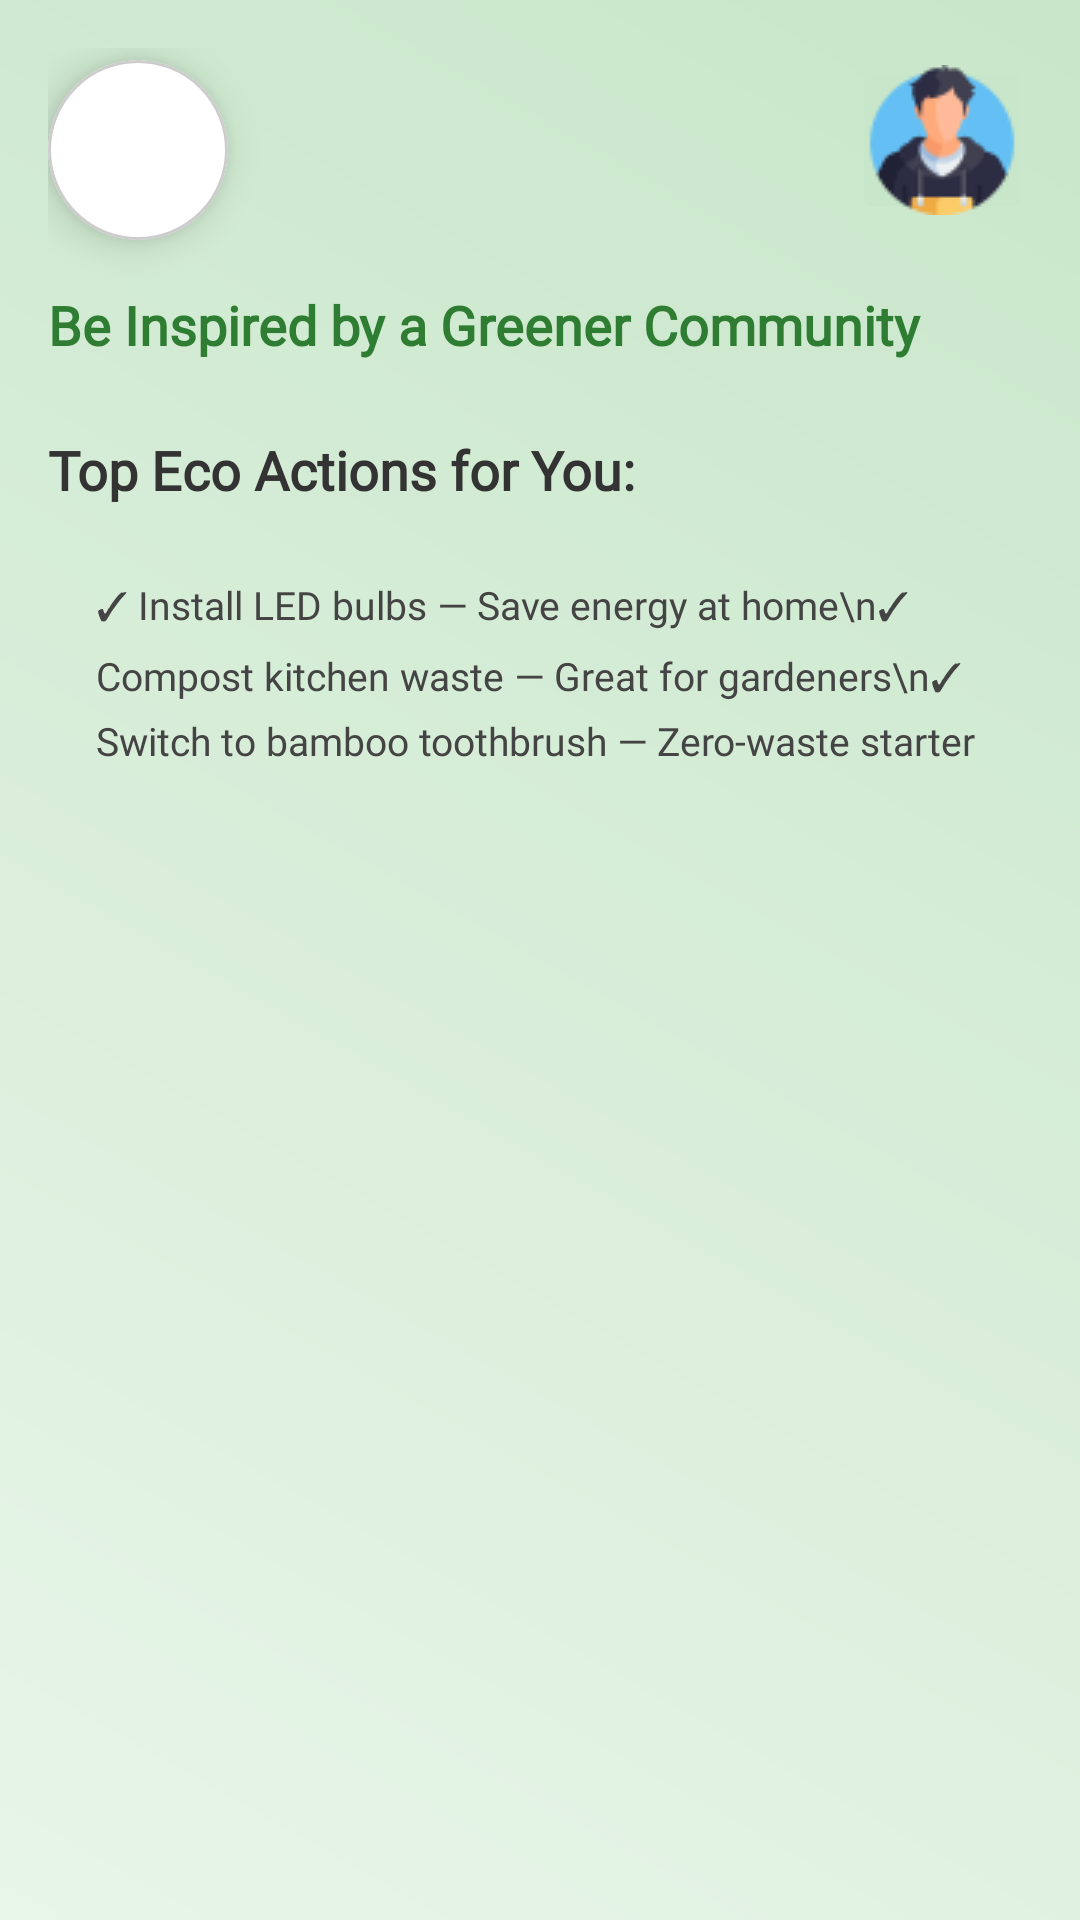

Named icons in this screenshot (1080w x 1920h) and their bounding boxes, (x1, y1, x2, y2):
profile: (869, 65, 1015, 215)
